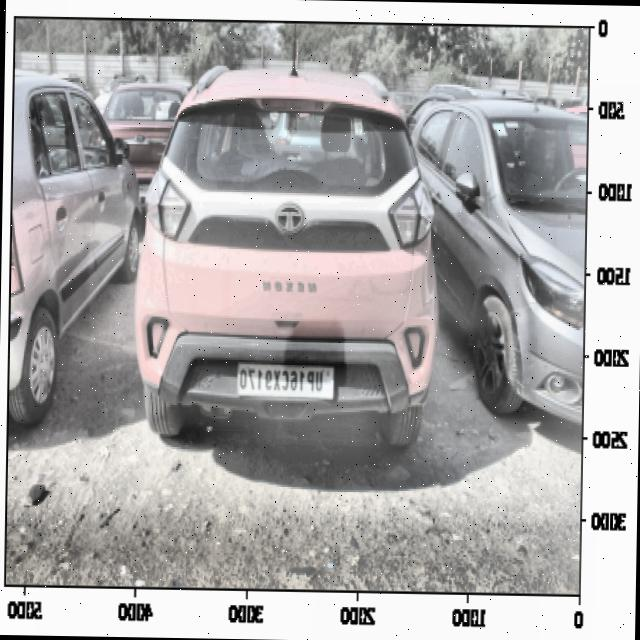license_plate: (235, 364, 330, 401)
